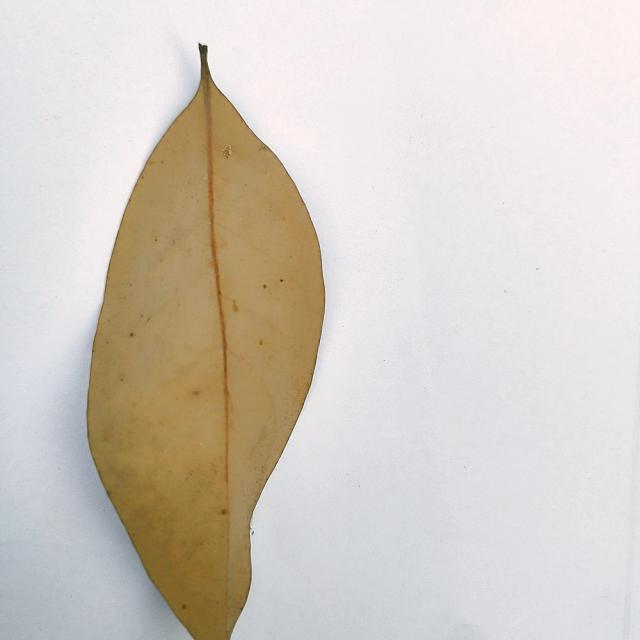Dry_Leaf-Lychee: (85, 45, 326, 639)
